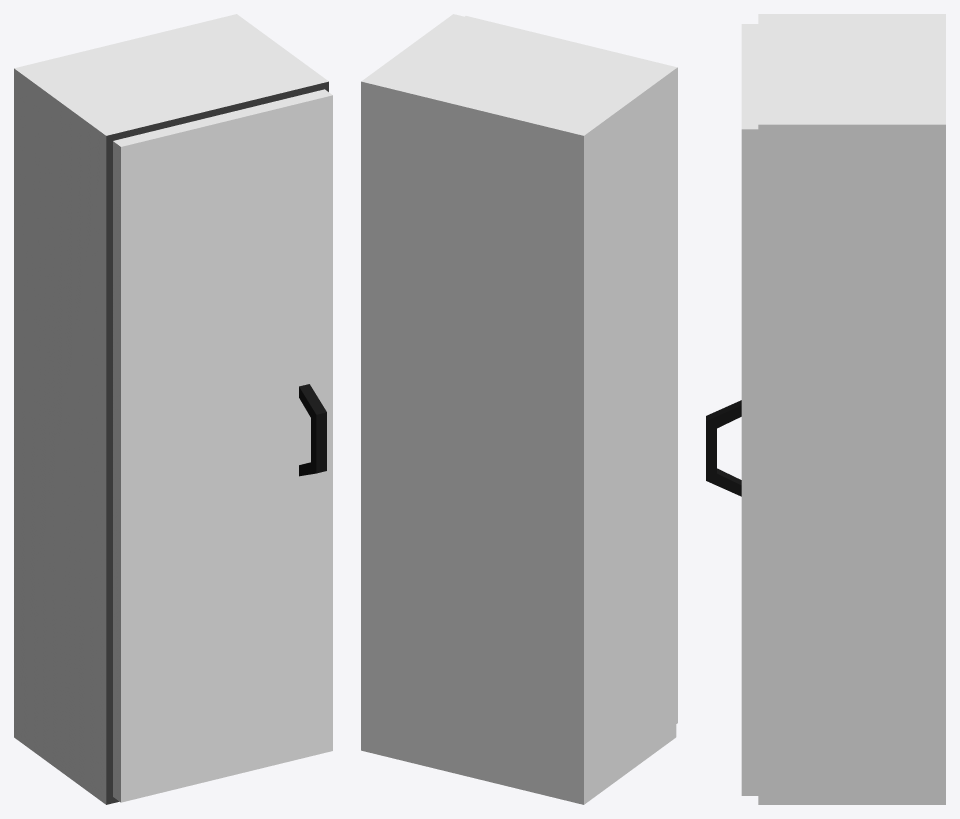
Rendered from WardRobe_4A.fbx.
The picture shows the model from 3 angles, left to right: view 1: azimuth 30°, elevation 25°; view 2: azimuth 150°, elevation 25°; view 3: azimuth 270°, elevation 25°; orthographic projection.
Parts seen in each view (by area): view 1: polySurface1602; view 2: polySurface1602; view 3: polySurface1602.
Boxes of the visible parts, bbox=[...] form: polySurface1602: bbox=[14, 14, 332, 804]; polySurface1602: bbox=[361, 14, 677, 804]; polySurface1602: bbox=[706, 14, 945, 804].
Size of the model in its own units: 1.18 by 3.4 by 1.09.
Materials: 1 (1 with a texture image).
